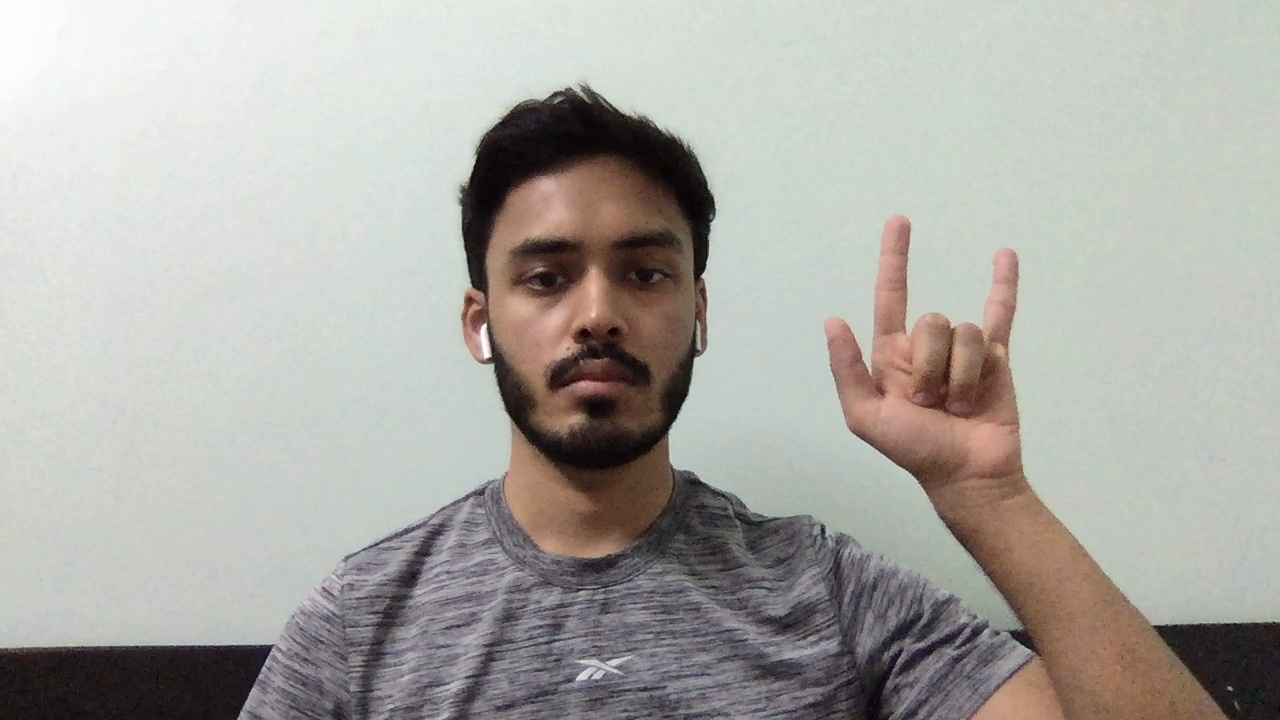I Love You: (804, 199, 1053, 483)
